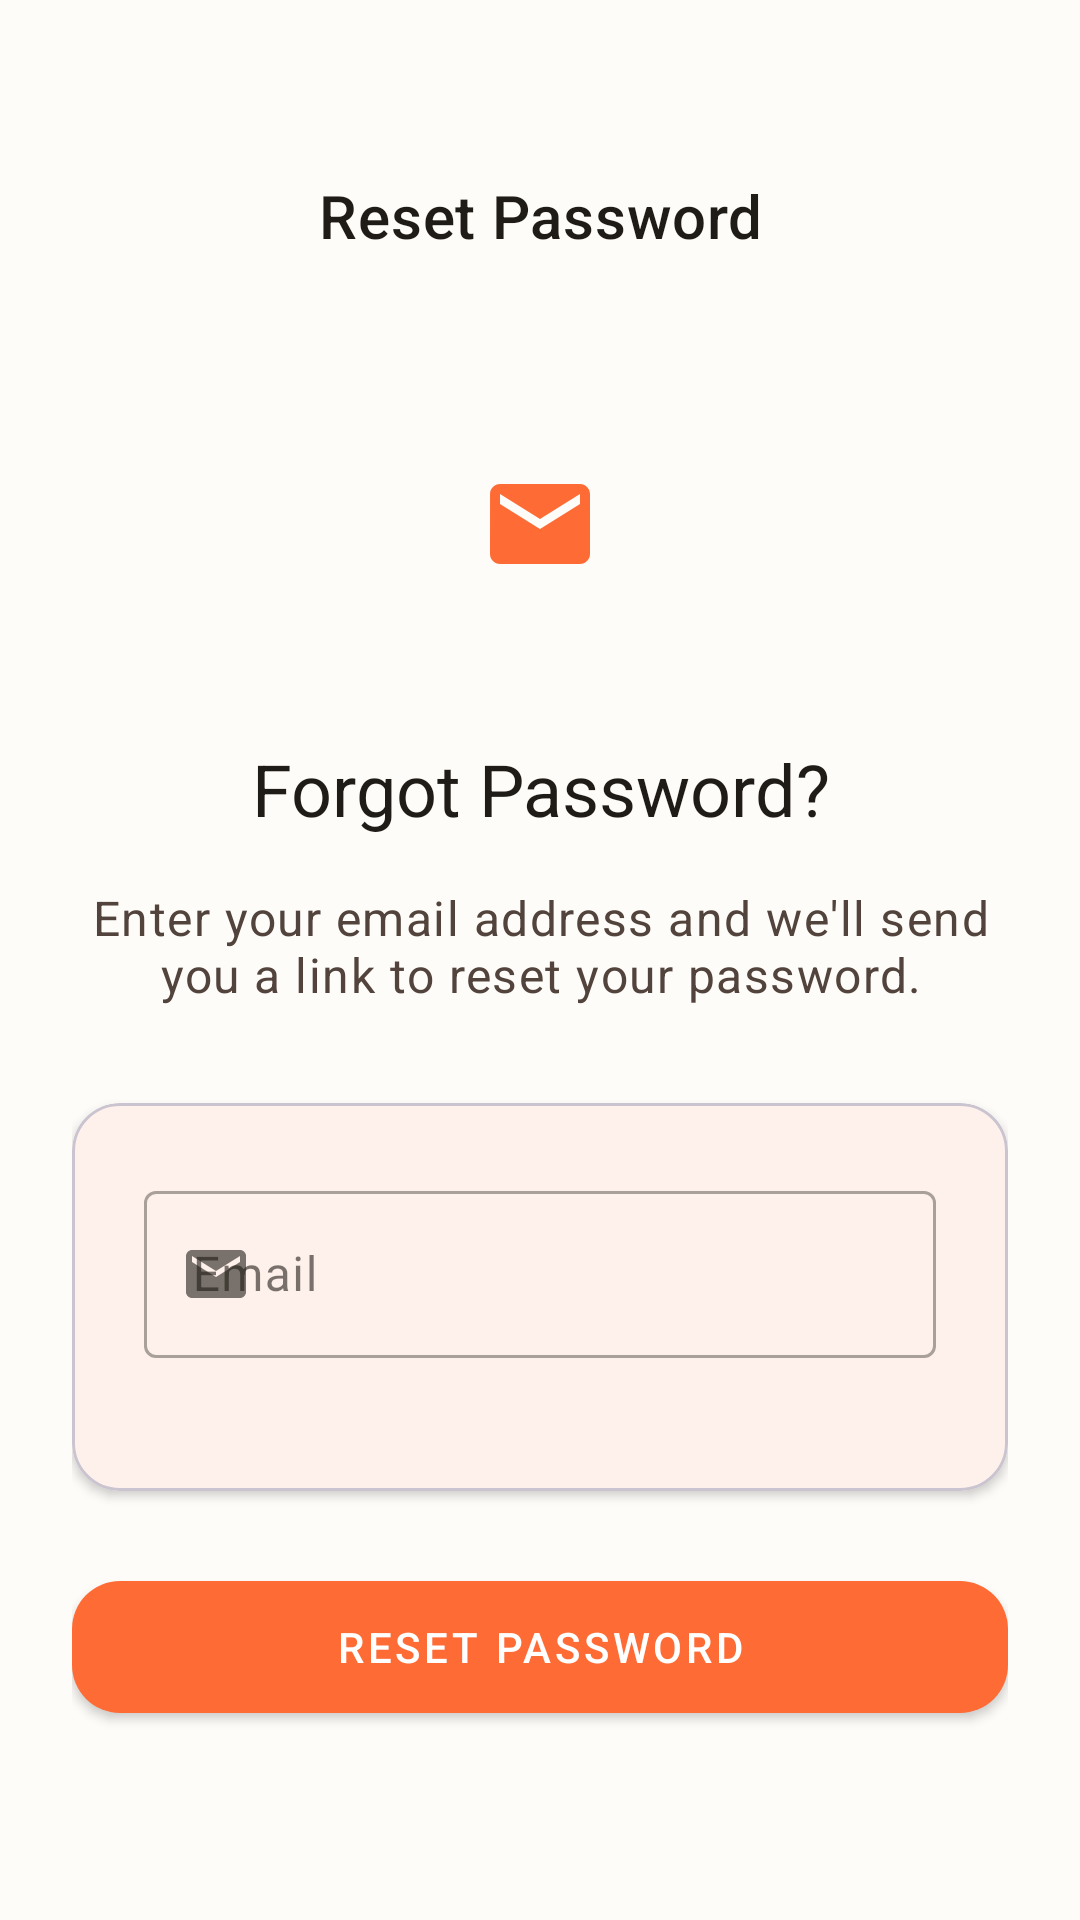

Icons on this 1080w x 1920h Android screen, each with its box as (x1, y1, x2, y2):
email: (490, 484, 590, 564)
